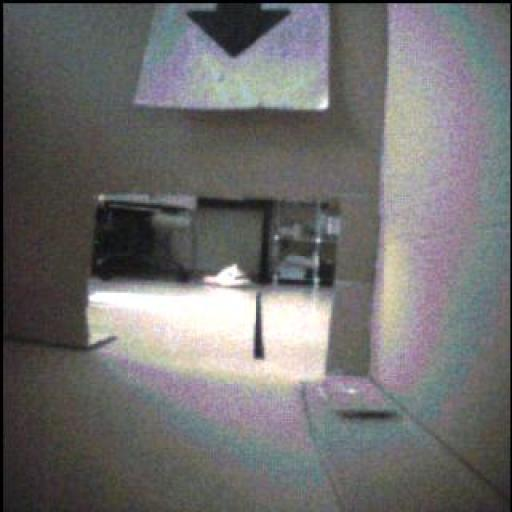arrow: (188, 4, 291, 59)
